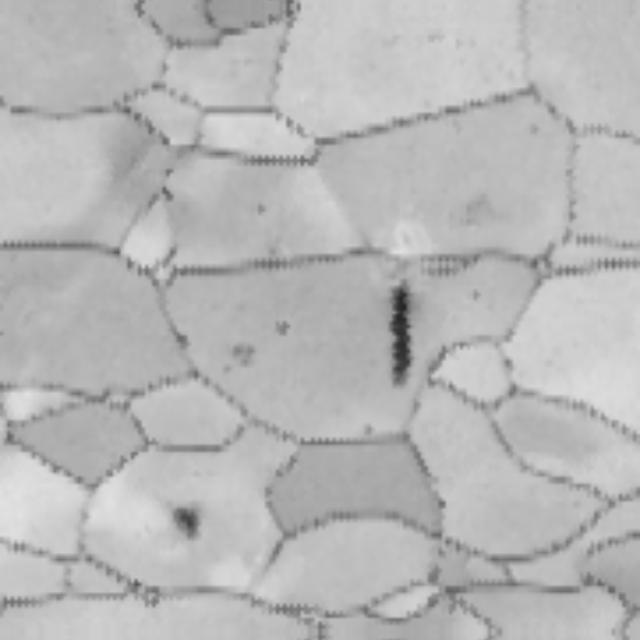good_void: (380, 284, 417, 392), (166, 499, 212, 546), (228, 344, 254, 374), (272, 323, 291, 342), (250, 201, 270, 217), (161, 186, 177, 206), (174, 333, 190, 351), (360, 421, 376, 438), (468, 288, 484, 303)
